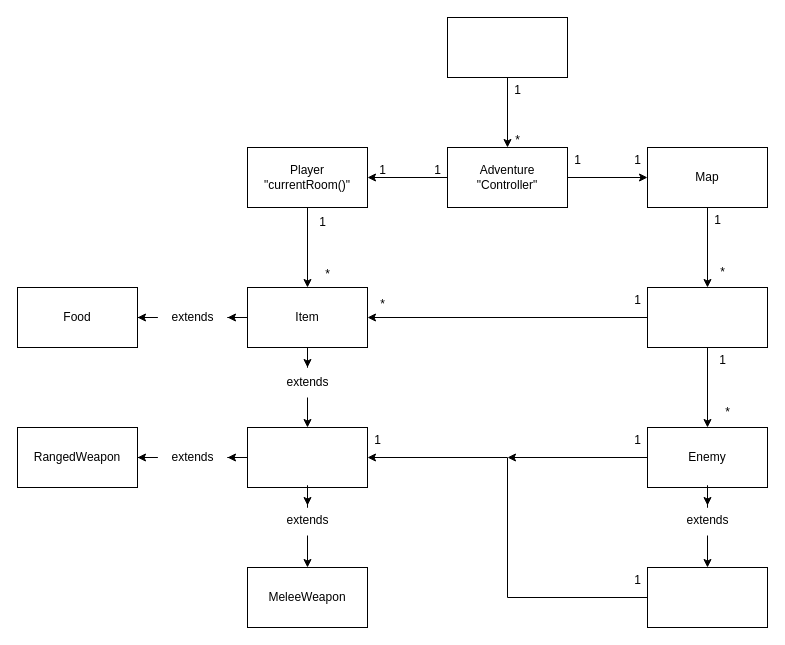
Image size: 785x645. Some labels were removed from this diagram. Here are the shapes that lost their labels. From the top down, the centre of each, then its label:
(507,47): UserInterface
(707,317): Room
(307,457): Weapon "abstract class"
(707,597): Trap
